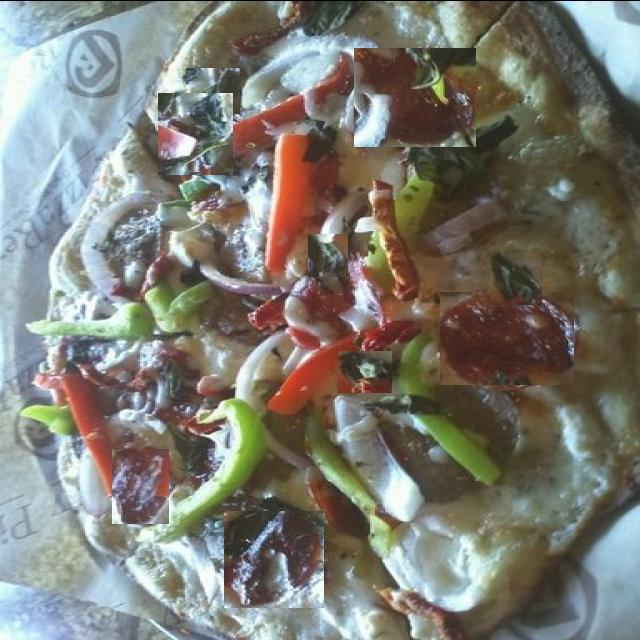basil: (404, 105, 523, 193), (158, 92, 233, 174), (490, 250, 542, 304), (186, 67, 240, 113), (338, 350, 392, 392), (302, 0, 359, 34), (308, 233, 348, 276)
pepperoni: (440, 291, 574, 384), (354, 47, 476, 146), (224, 510, 324, 607), (112, 448, 169, 523)
pizza: (37, 0, 640, 640)
